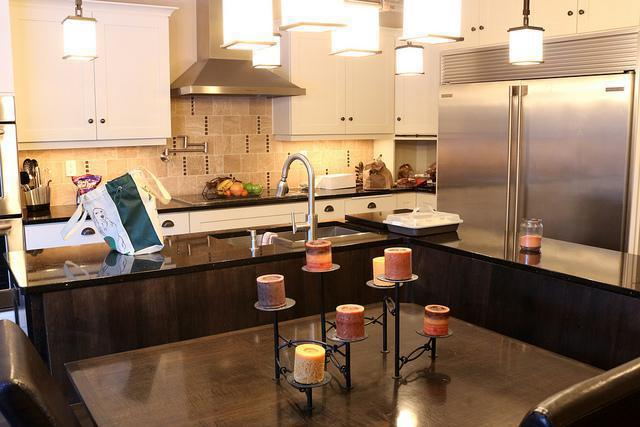Lavaplatos: (219, 153, 369, 251)
